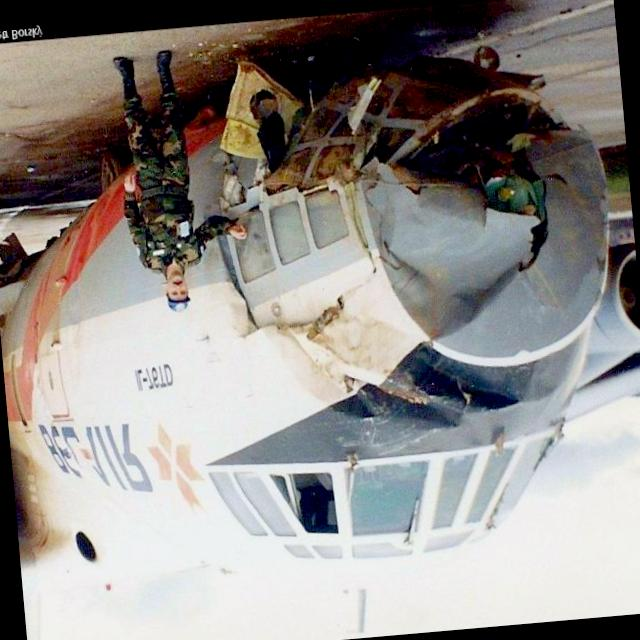dent: (411, 350, 520, 433)
